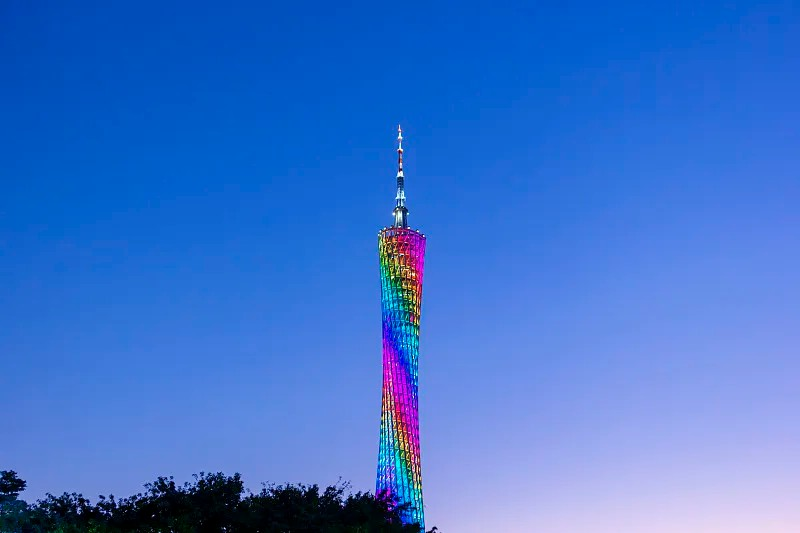Canton: (377, 124, 426, 533)
